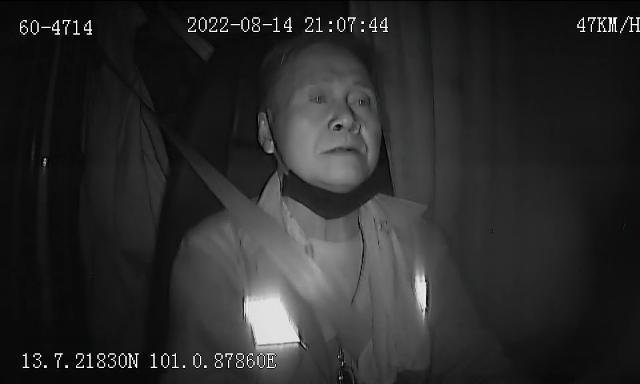SafeDriving: (302, 82, 336, 114), (344, 84, 376, 115)
Seatbelt: (193, 155, 354, 384)
